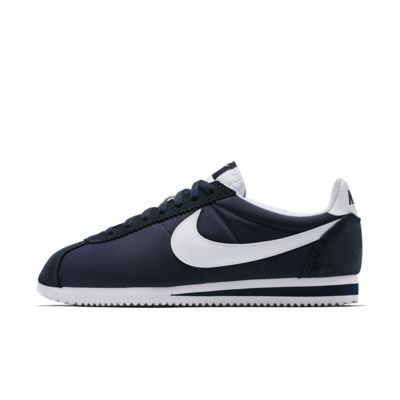nike: (168, 206, 337, 271)
